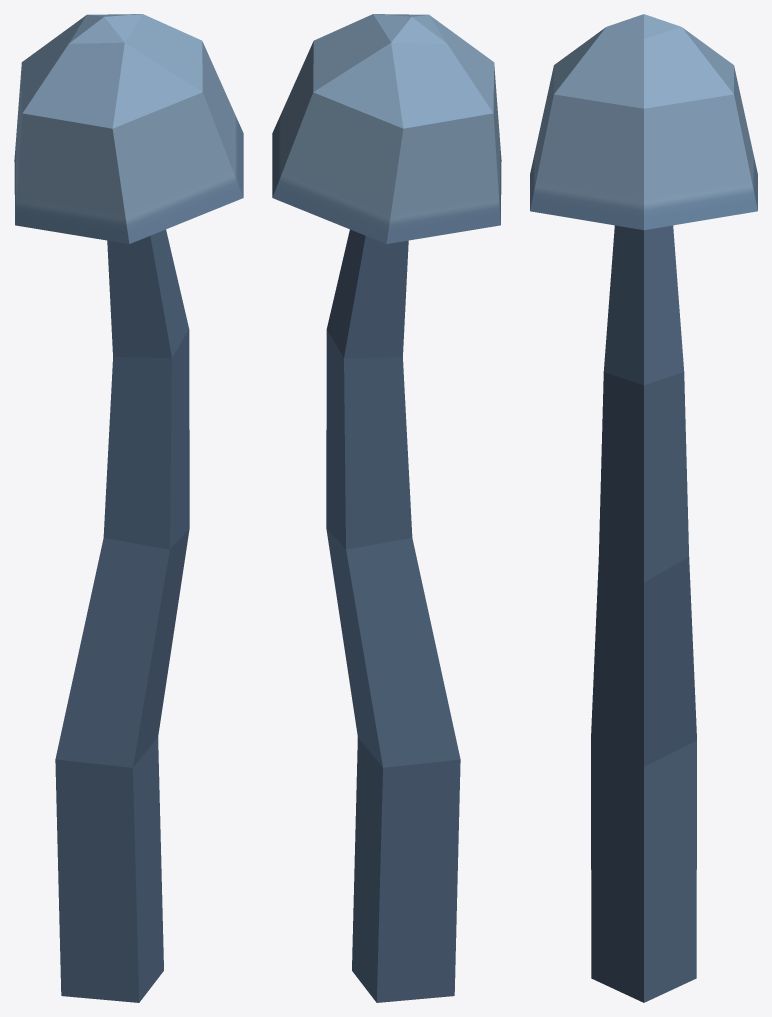
The model's file is SM_Prop_Mushroom_01.fbx.
3 renders of one model, left to right at view 1: azimuth 30°, elevation 25°; view 2: azimuth 150°, elevation 25°; view 3: azimuth 270°, elevation 25°, orthographic.
Parts seen in each view (by area): view 1: SM_Prop_Mushroom_01; view 2: SM_Prop_Mushroom_01; view 3: SM_Prop_Mushroom_01.
Part boxes in pixels (box(x1,y1,x2,y2)): SM_Prop_Mushroom_01: box(14, 14, 243, 1002); SM_Prop_Mushroom_01: box(272, 14, 501, 1002); SM_Prop_Mushroom_01: box(530, 14, 757, 1002).
Bounding box in the file's own units: 6.62 × 26.85 × 5.78.
Materials: 1 (1 with a texture image).
